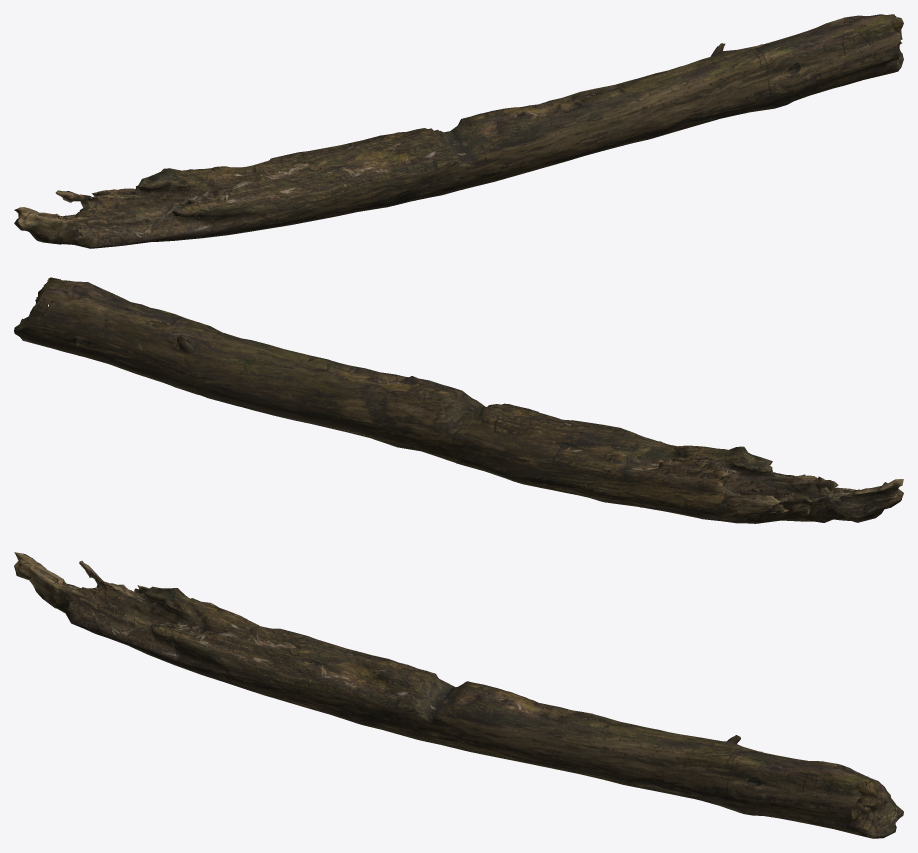
Rendered from WorldLog.obj.
The picture shows the model from 3 angles, top to bottom: view 1: azimuth 30°, elevation 25°; view 2: azimuth 150°, elevation 25°; view 3: azimuth 330°, elevation 25°; orthographic projection.
Visible parts, largest first — view 1: WorldLog; view 2: WorldLog; view 3: WorldLog.
Part boxes in pixels (left/top/right/bottom): WorldLog: left=14, top=14, right=903, bottom=248; WorldLog: left=14, top=277, right=903, bottom=523; WorldLog: left=14, top=552, right=903, bottom=838.
Bounding box in the file's own units: 12.6 × 1.19 × 1.14.
